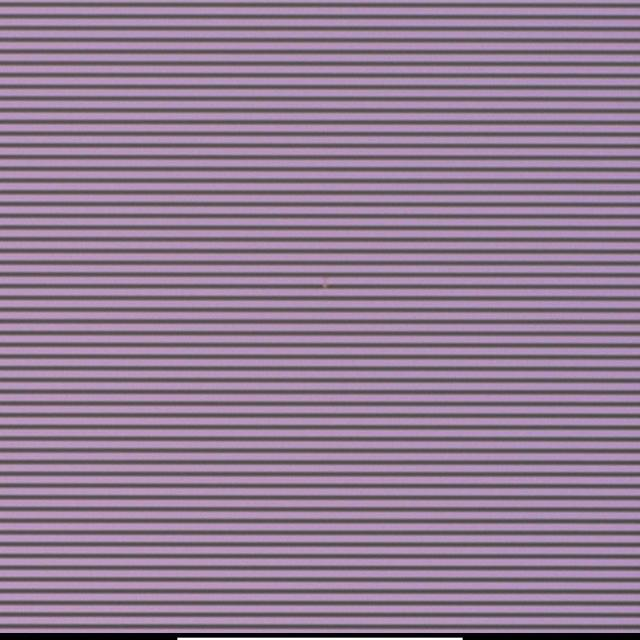03_intrusion: (320, 276, 328, 290)
